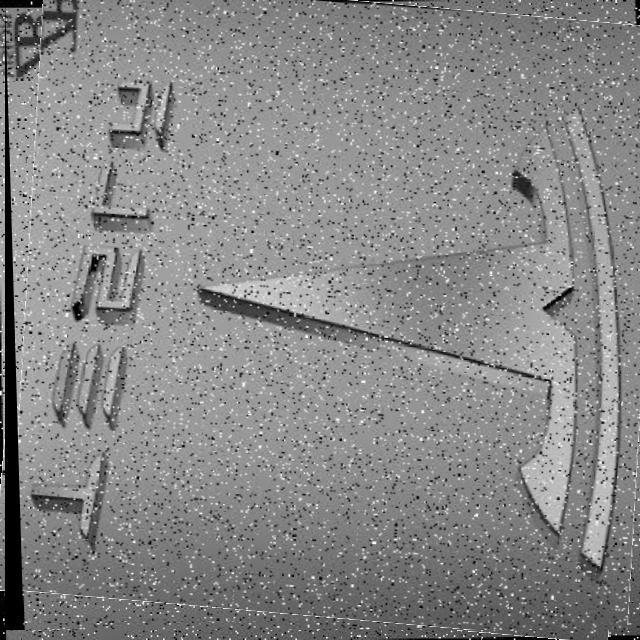Tesla: (5, 0, 640, 630)
